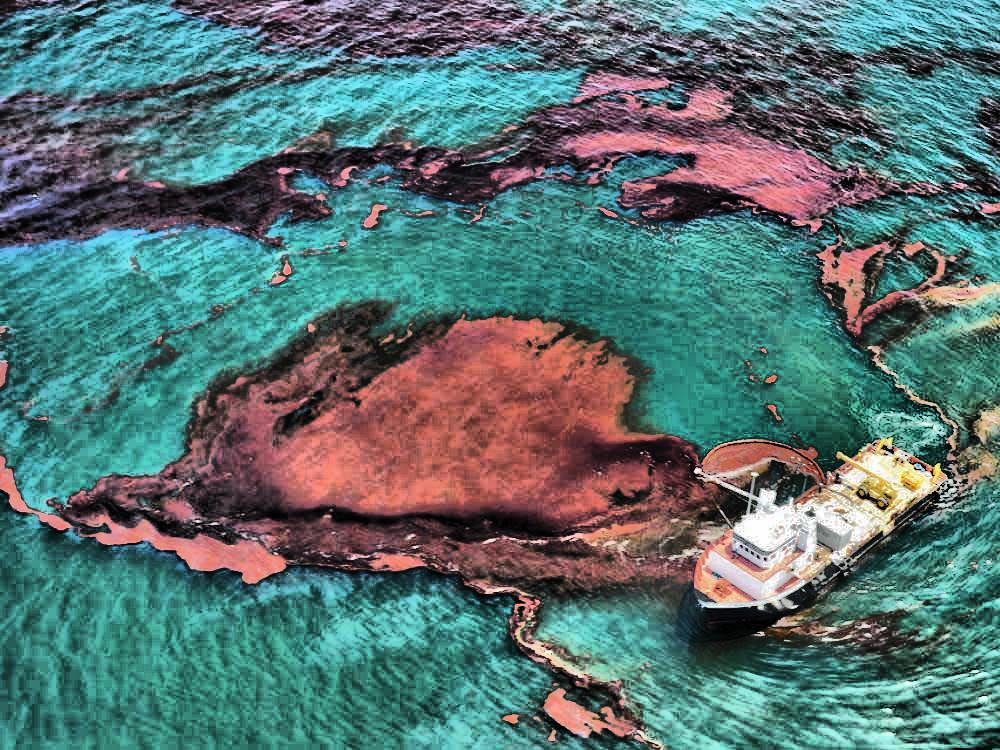truecolor: (57, 304, 704, 596), (0, 69, 847, 245), (172, 0, 864, 80), (510, 597, 664, 750), (819, 230, 954, 346)
